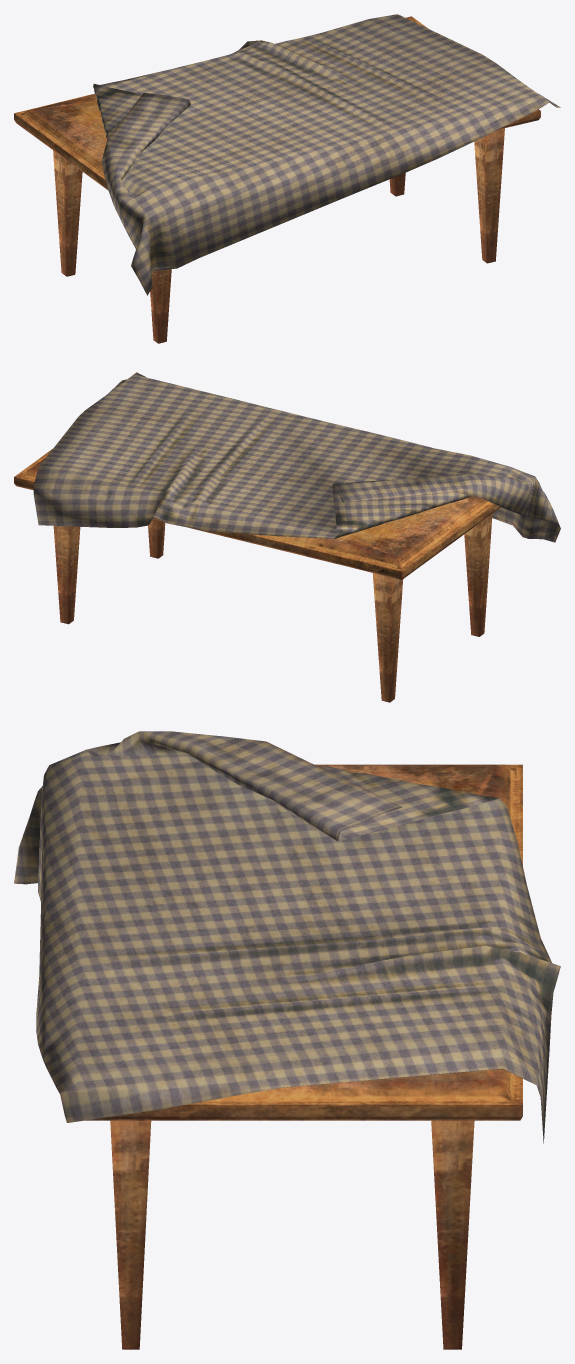
Rendered from dining_table.glb.
3 views of the same model, one above another, from view 1: azimuth 30°, elevation 25°; view 2: azimuth 150°, elevation 25°; view 3: azimuth 270°, elevation 25° (orthographic). The views are drawn at different scales.
Parts seen in each view (by area): view 1: dining_table_cloth, dining_table; view 2: dining_table_cloth, dining_table; view 3: dining_table_cloth, dining_table.
Part boxes in pixels (left/top/right/bottom): dining_table_cloth: left=93, top=14, right=560, bottom=295; dining_table: left=14, top=16, right=540, bottom=343; dining_table_cloth: left=33, top=372, right=560, bottom=542; dining_table: left=14, top=449, right=501, bottom=702; dining_table_cloth: left=14, top=731, right=560, bottom=1143; dining_table: left=85, top=764, right=522, bottom=1349.
Size of the model in its own units: 2.26 by 0.877 by 1.39.
1 material, 1 textured.
